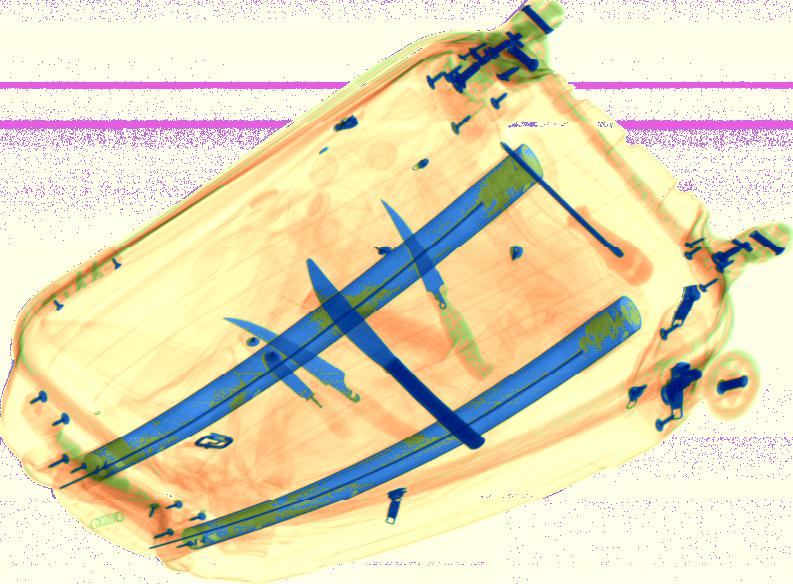Knife: (304, 259, 485, 448), (380, 195, 495, 380), (223, 315, 381, 424), (263, 351, 328, 415)
